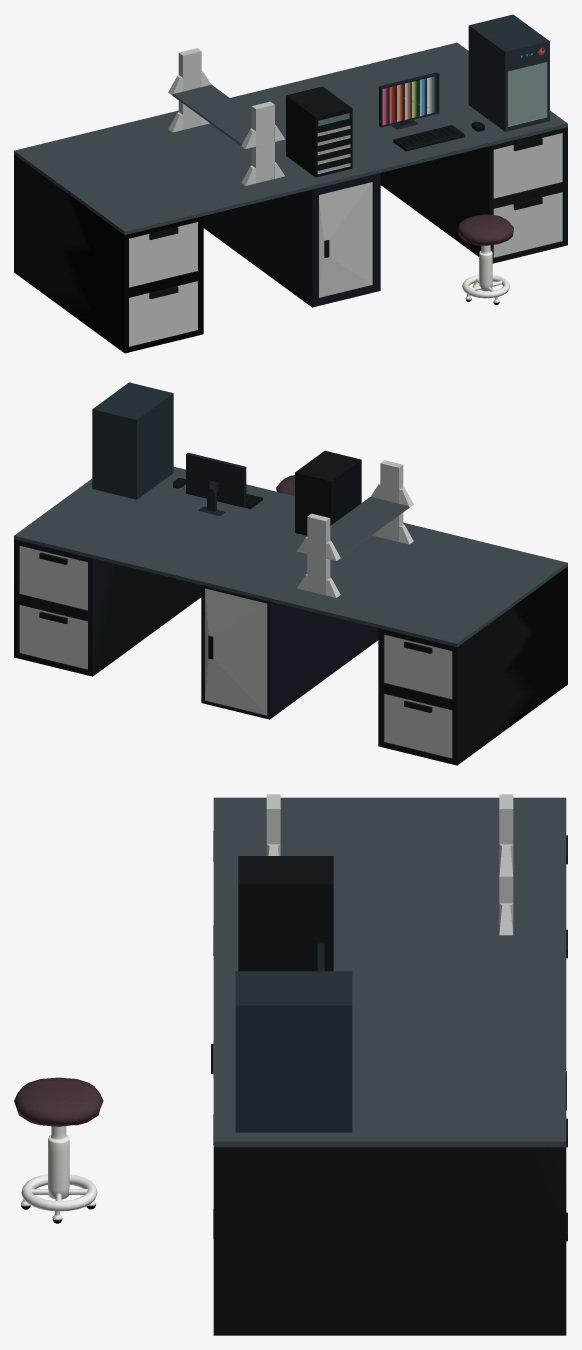
Rendered from workstation.fbx.
3 renders of one model, top to bottom at view 1: azimuth 30°, elevation 25°; view 2: azimuth 150°, elevation 25°; view 3: azimuth 270°, elevation 25°, orthographic. The views are drawn at different scales.
Parts seen in each view (by area): view 1: Cube, Cube.004, Cube.001, Cube.003, Cube.005, Cube.002, Cube.006; view 2: Cube, Cube.004, Cube.001, Cube.003, Cube.002; view 3: Cube, Cube.004, Cube.003, Cube.001, Cube.005.
Boxes of the visible parts, x1,y1,x2,y2 form: Cube: [14, 42, 567, 353]; Cube.004: [468, 14, 549, 131]; Cube.001: [168, 48, 285, 185]; Cube.003: [286, 86, 352, 177]; Cube.005: [458, 214, 513, 304]; Cube.002: [379, 72, 439, 129]; Cube.006: [393, 125, 464, 151]; Cube: [14, 466, 567, 765]; Cube.004: [92, 382, 173, 499]; Cube.001: [296, 460, 413, 597]; Cube.003: [295, 450, 361, 535]; Cube.002: [186, 452, 246, 515]; Cube: [211, 797, 567, 1335]; Cube.004: [235, 971, 352, 1132]; Cube.003: [238, 856, 333, 971]; Cube.001: [266, 794, 513, 935]; Cube.005: [14, 1077, 103, 1223].
Size of the model in its own units: 784 by 341 by 534.
